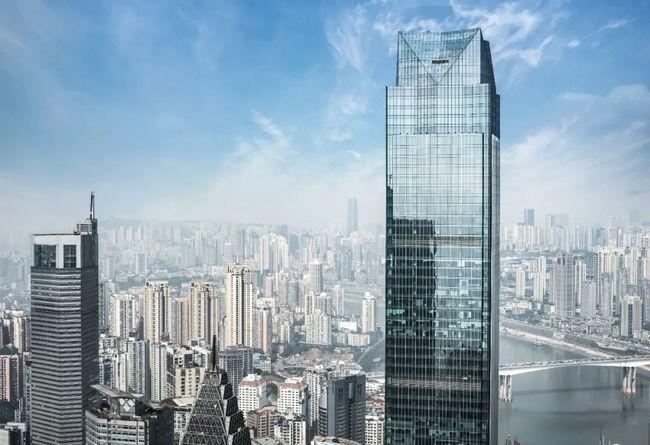buildings: (364, 40, 517, 409), (22, 205, 109, 435)
